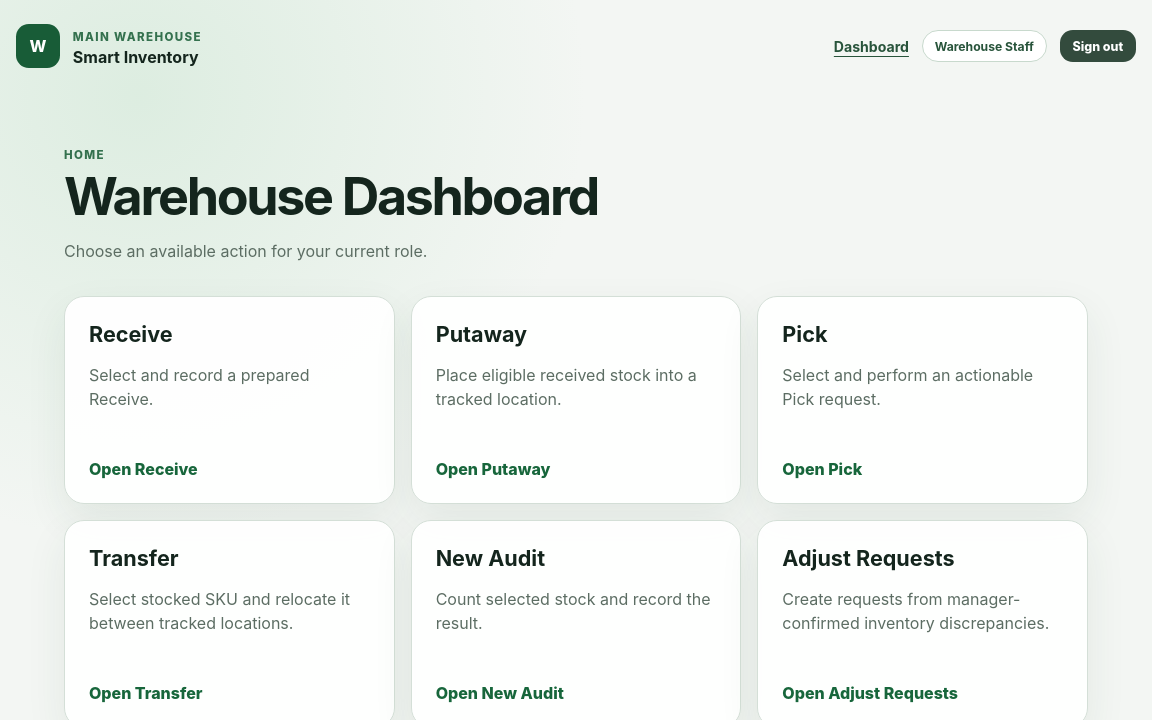
Test case: keeps the actor after logout receives an HTTP 5xx response
Click the button "Sign out" at (1098, 46), box [1060, 30, 1136, 62]
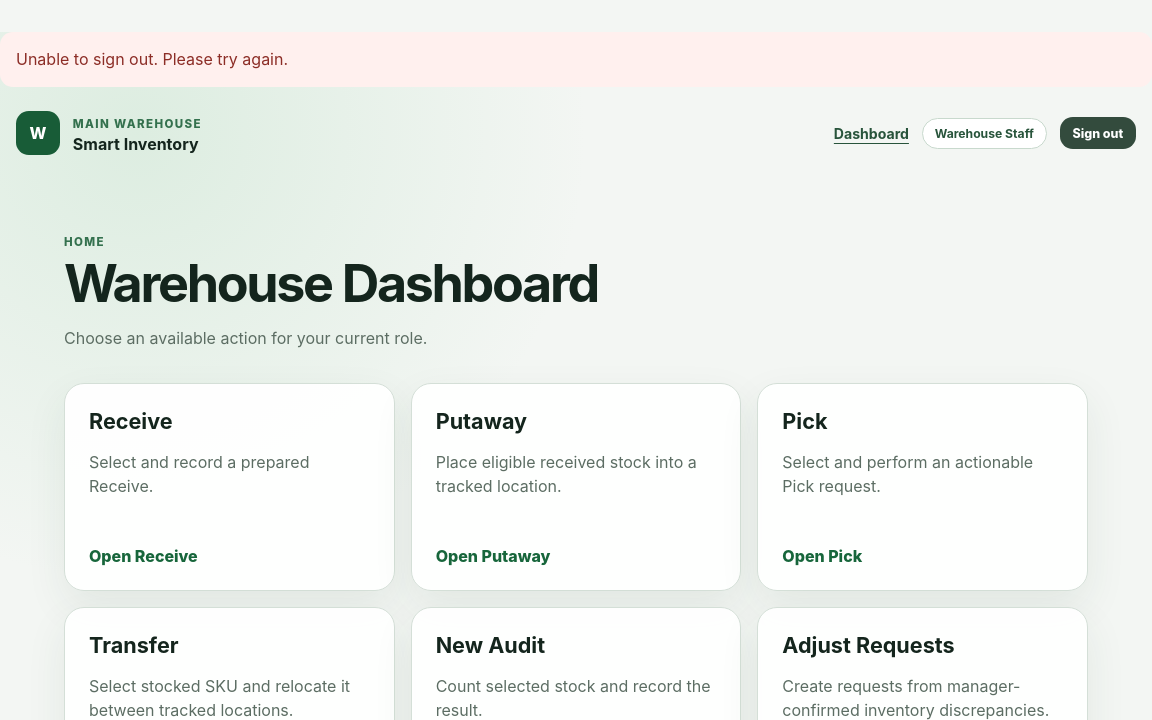
Expected: the text "Warehouse Staff" is shown, [922, 118, 1047, 149]
Expected: the text "Unable to sign out. Please try again." is shown, [0, 32, 1151, 87]
